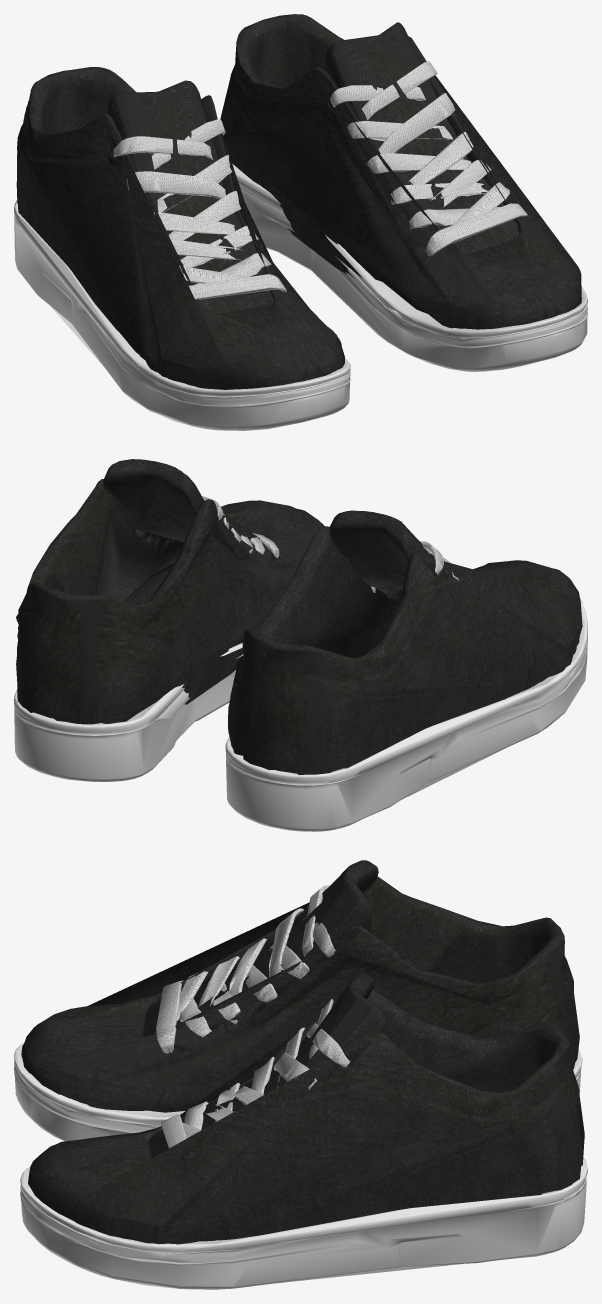
Rendered from shoes.FBX.
3 views of the same model, one above another, from view 1: azimuth 30°, elevation 25°; view 2: azimuth 150°, elevation 25°; view 3: azimuth 270°, elevation 25° (orthographic). The views are drawn at different scales.
Parts seen in each view (by area): view 1: Object002, Object005, Object006, Object001, Object003, Object004; view 2: Object005, Object002, Object006, Object001, Object003; view 3: Object002, Object005, Object001, Object004, Object006, Object003.
Boxes of the visible parts, bbox=[...] form: Object002: bbox=[220, 14, 581, 329]; Object005: bbox=[16, 67, 344, 389]; Object006: bbox=[14, 200, 350, 430]; Object001: bbox=[232, 164, 587, 371]; Object003: bbox=[330, 61, 527, 256]; Object004: bbox=[113, 119, 286, 299]; Object005: bbox=[228, 510, 582, 774]; Object002: bbox=[16, 459, 323, 724]; Object006: bbox=[225, 598, 587, 831]; Object001: bbox=[14, 643, 243, 781]; Object003: bbox=[202, 496, 279, 557]; Object002: bbox=[28, 973, 584, 1244]; Object005: bbox=[21, 860, 579, 1112]; Object001: bbox=[20, 1157, 587, 1289]; Object004: bbox=[156, 885, 335, 1053]; Object006: bbox=[14, 1043, 582, 1141]; Object003: bbox=[161, 999, 350, 1148].
Bounding box in the file's own units: 25.04 × 13.68 × 28.01.
